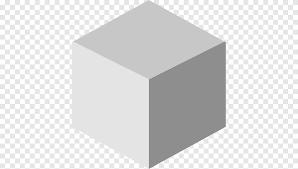cube: (71, 1, 227, 169)
